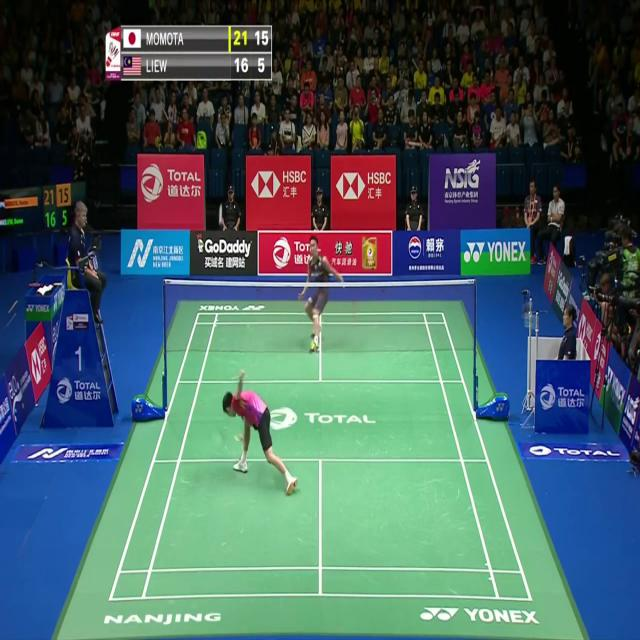Shuttlecock: (217, 208, 224, 220)
